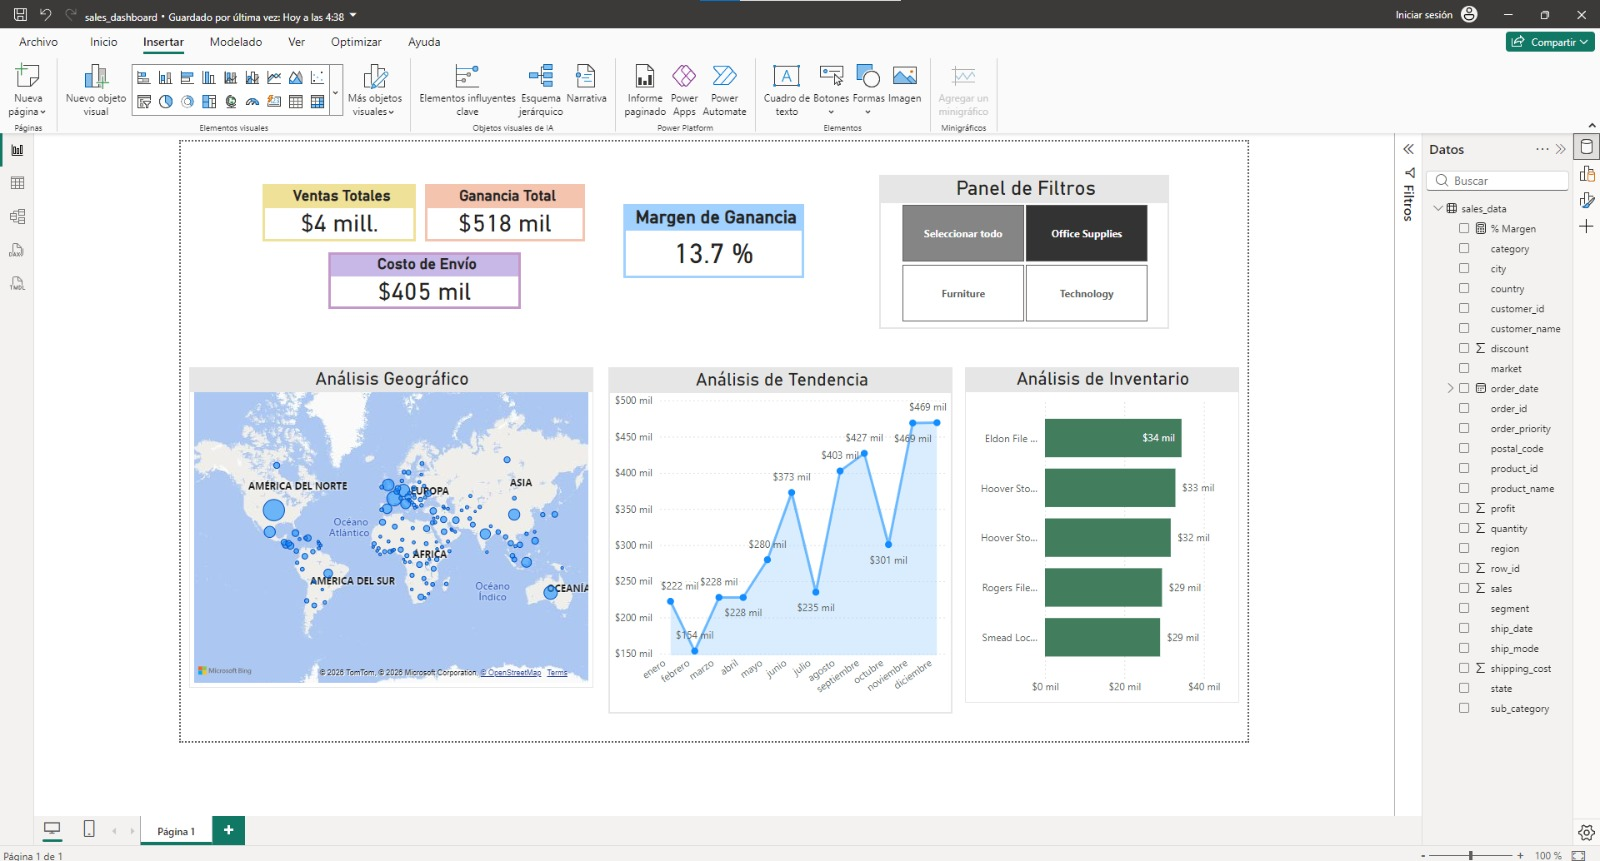

Layout of this report page (visuals, bound fields, positions):
{"tool":"powerbi","page":{"name":"Página 1","canvas":[1280,720],"ordinal":0},"visuals":[{"type":"card","title":"Ventas Totales","fields":{"Values":["Sum(sales_data.sales)"]},"box":[98,51,184,69],"z":0},{"type":"card","title":"Ganancia Total","fields":{"Values":["Sum(sales_data.profit)"]},"box":[293,51,192,69],"z":1000},{"type":"card","title":"Costo de Envío","fields":{"Values":["Sum(sales_data.shipping_cost)"]},"box":[177,133,231,68],"z":2000},{"type":"map","title":"Análisis Geográfico","fields":{"Category":["sales_data.country"],"Size":["Sum(sales_data.sales)"]},"box":[10,271,485,385],"z":3000},{"type":"areaChart","title":"Análisis de Tendencia","fields":{"Category":["sales_data.order_date.Variación.Jerarquía de fechas.Mes"],"Y":["Sum(sales_data.sales)"]},"box":[513,271,413,416],"z":4000},{"type":"clusteredBarChart","title":"Análisis de Inventario","fields":{"Category":["sales_data.product_name"],"Y":["Sum(sales_data.sales)"]},"box":[941,271,329,403],"z":5000},{"type":"slicer","title":"Panel de Filtros","fields":{"Values":["sales_data.category"]},"box":[838,40,348,185],"z":6000},{"type":"card","title":"Margen de Ganancia","fields":{"Values":["sales_data.% Margen"]},"box":[531,75,217,89],"z":7000}]}

Visuals, with their boxes on the page's 1280x720 design canvas (x1, y1, x2, y2). These are canvas units, not pixel positions in the 1600x861 screenshot, which may show the page scaled, cropped or inside an application window:
"Ventas Totales" card: 98 51 282 120
"Ganancia Total" card: 293 51 485 120
"Costo de Envío" card: 177 133 408 201
"Análisis Geográfico" map: 10 271 495 656
"Análisis de Tendencia" areaChart: 513 271 926 687
"Análisis de Inventario" clusteredBarChart: 941 271 1270 674
"Panel de Filtros" slicer: 838 40 1186 225
"Margen de Ganancia" card: 531 75 748 164
